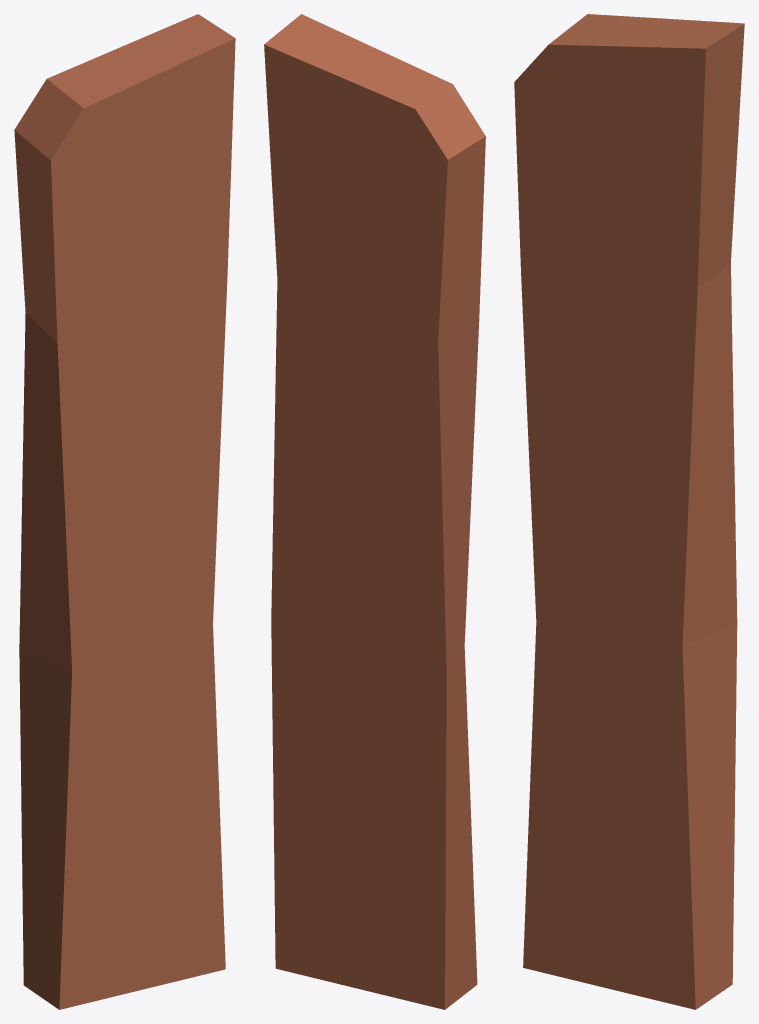
File: Plank 05.fbx
3 renders of one model, left to right at view 1: azimuth 30°, elevation 25°; view 2: azimuth 150°, elevation 25°; view 3: azimuth 330°, elevation 25°, orthographic. The views are drawn at different scales.
Parts seen in each view (by area): view 1: Plank 05; view 2: Plank 05; view 3: Plank 05.
Boxes of the visible parts, box(x1,y1,x2,y2) form: Plank 05: box(14, 14, 235, 1009); Plank 05: box(264, 14, 485, 1009); Plank 05: box(514, 14, 744, 1009).
Size of the model in its own units: 21.26 by 102 by 7.46.
